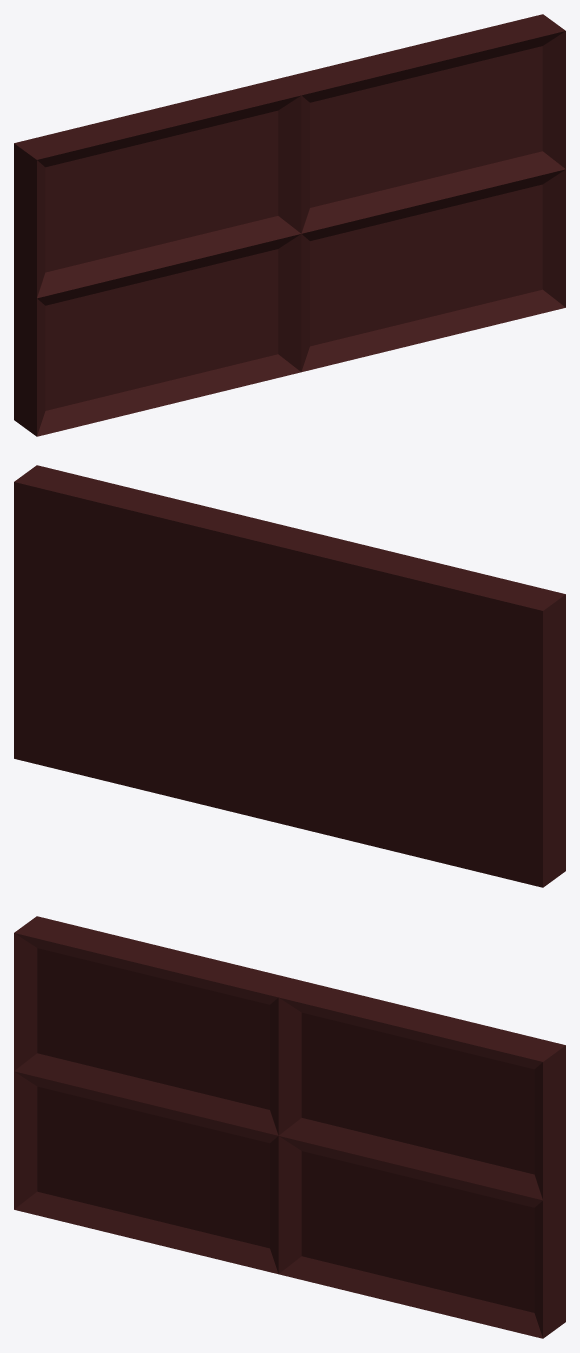
Rendered from IsometricTile_Dark_Door.fbx.
3 renders of one model, top to bottom at view 1: azimuth 30°, elevation 25°; view 2: azimuth 150°, elevation 25°; view 3: azimuth 330°, elevation 25°, orthographic.
Parts seen in each view (by area): view 1: Cube.009, Cube.018; view 2: Cube.009, Cube.018; view 3: Cube.018, Cube.009.
Boxes of the visible parts, x1=… form: Cube.009: x1=14, y1=78, x2=301, y2=436; Cube.018: x1=279, y1=14, x2=565, y2=372; Cube.009: x1=278, y1=529, x2=565, y2=887; Cube.018: x1=14, y1=465, x2=300, y2=823; Cube.018: x1=278, y1=980, x2=565, y2=1338; Cube.009: x1=14, y1=916, x2=300, y2=1274.
Size of the model in its own units: 2 by 0.15 by 1.
